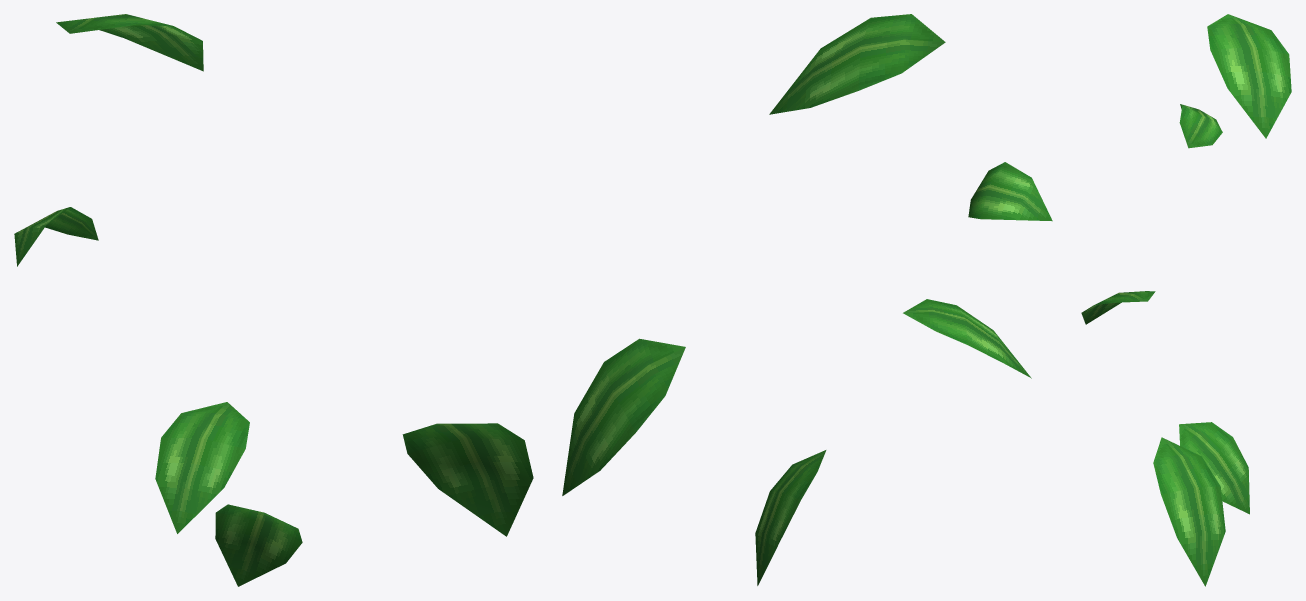
The model's file is EKH_BARRELROOM_PS_JA1_LEAVES943888.fbx.
The picture shows the model from 3 angles, left to right: view 1: azimuth 30°, elevation 25°; view 2: azimuth 150°, elevation 25°; view 3: azimuth 270°, elevation 25°; orthographic projection. The views are drawn at different scales.
Parts seen in each view (by area): view 1: EKH_BARRELROOM_PS_JA1_LEAVES943888; view 2: EKH_BARRELROOM_PS_JA1_LEAVES943888; view 3: EKH_BARRELROOM_PS_JA1_LEAVES943888.
Boxes of the visible parts, bbox=[...] form: EKH_BARRELROOM_PS_JA1_LEAVES943888: bbox=[14, 14, 533, 586]; EKH_BARRELROOM_PS_JA1_LEAVES943888: bbox=[562, 14, 1052, 585]; EKH_BARRELROOM_PS_JA1_LEAVES943888: bbox=[1081, 14, 1291, 586].
Size of the model in its own units: 7168 by 8258 by 3567.
Materials: 1 (1 with a texture image).
